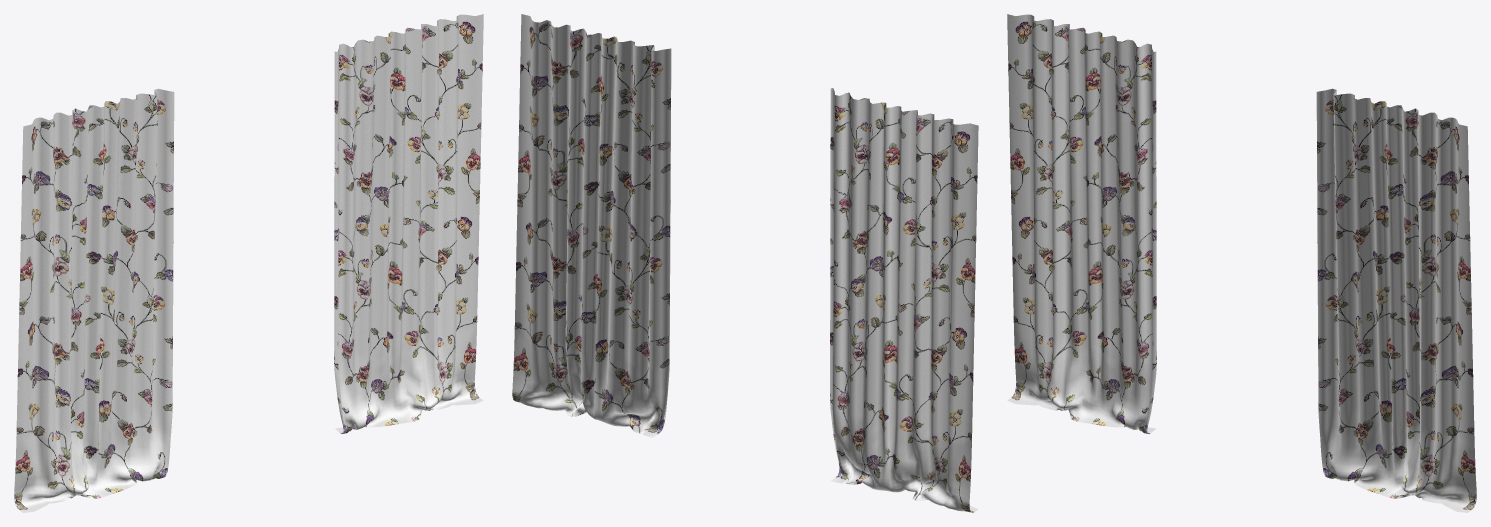
The picture shows the model from 3 angles, left to right: view 1: azimuth 30°, elevation 25°; view 2: azimuth 150°, elevation 25°; view 3: azimuth 330°, elevation 25°; orthographic projection.
Parts seen in each view (by area): view 1: UP01_2_002; view 2: UP01_2_002; view 3: UP01_2_002.
Boxes of the visible parts, x1=… form: UP01_2_002: x1=14, y1=14, x2=483, y2=512; UP01_2_002: x1=512, y1=14, x2=978, y2=512; UP01_2_002: x1=1007, y1=14, x2=1476, y2=512.
Size of the model in its own units: 3848 by 3088 by 219.
Materials: 1 (1 with a texture image).
